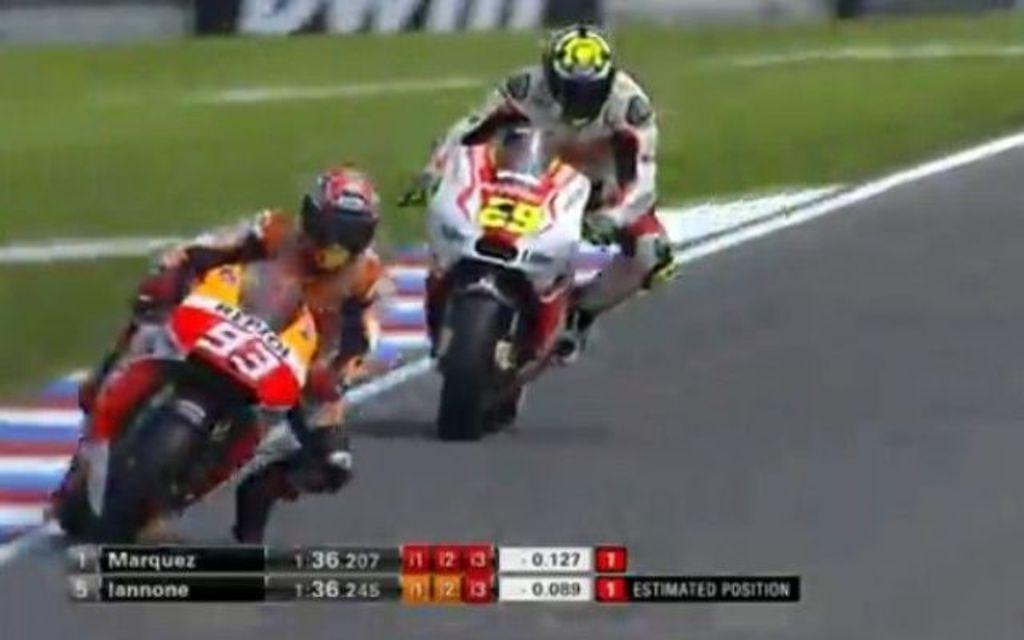helmet: (300, 163, 379, 274), (542, 20, 618, 133)
